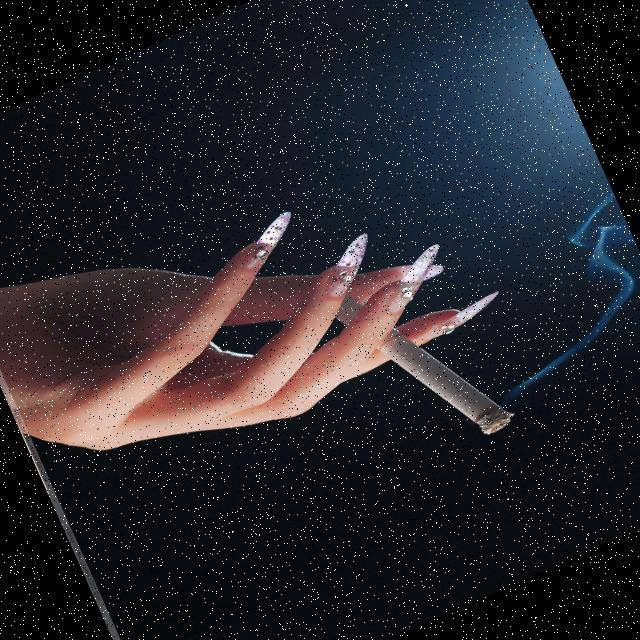cigarette: (358, 297, 528, 478)
